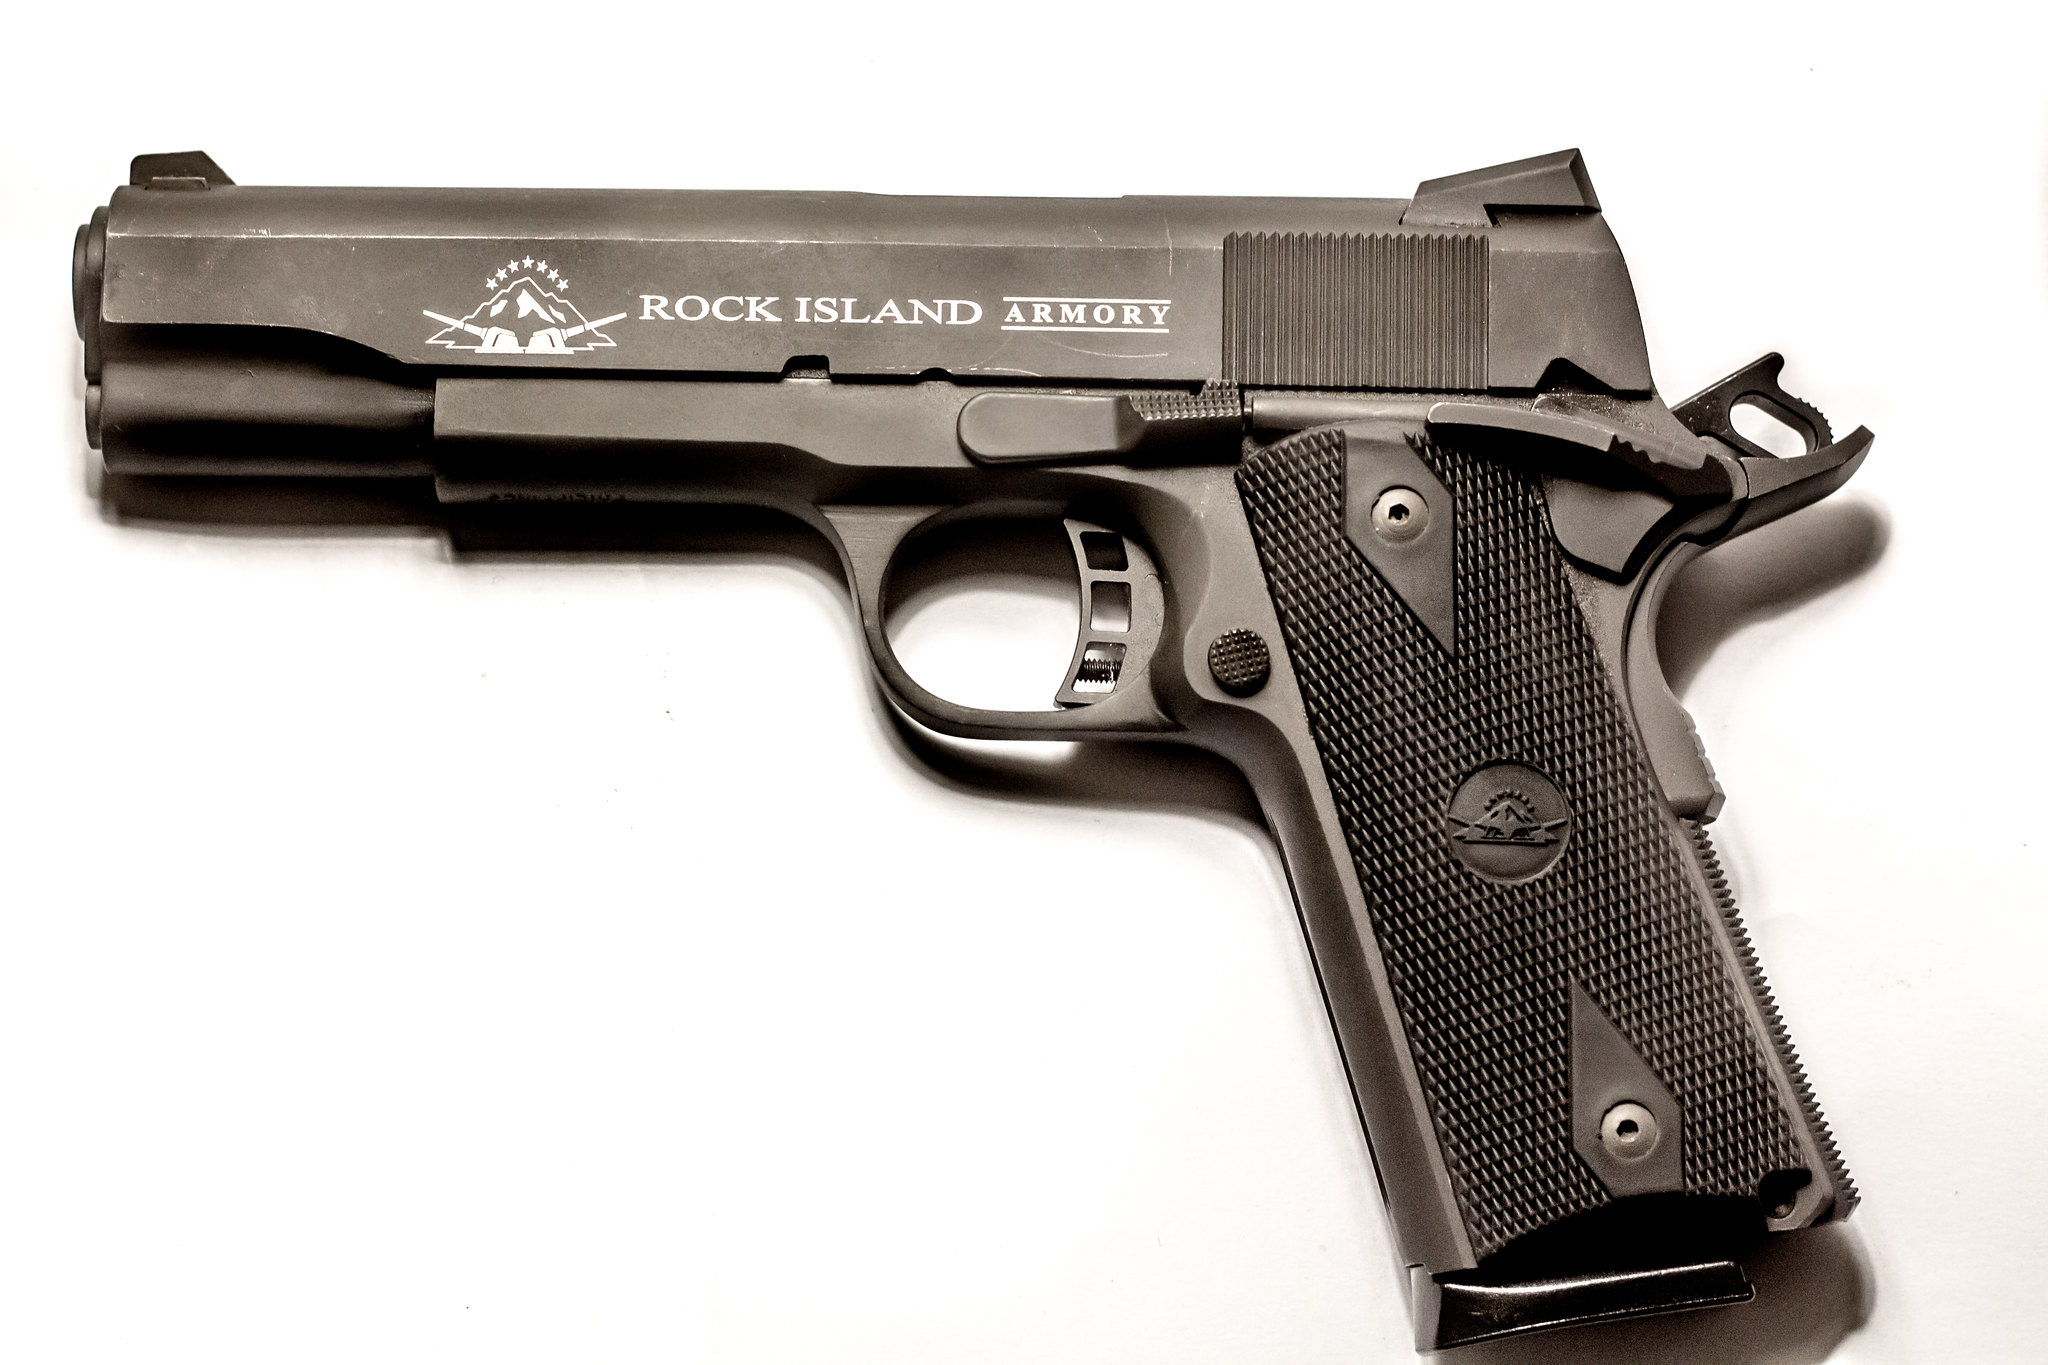gun: (64, 133, 1900, 1360)
